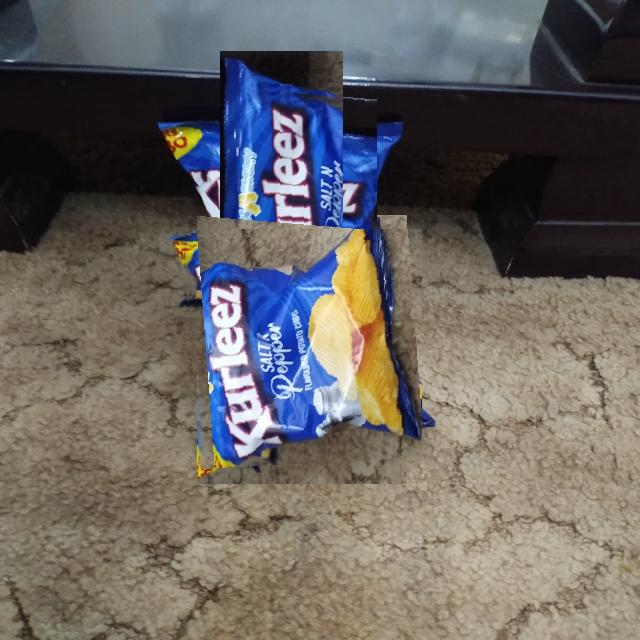Plastic: (182, 229, 422, 469), (187, 84, 377, 273)
